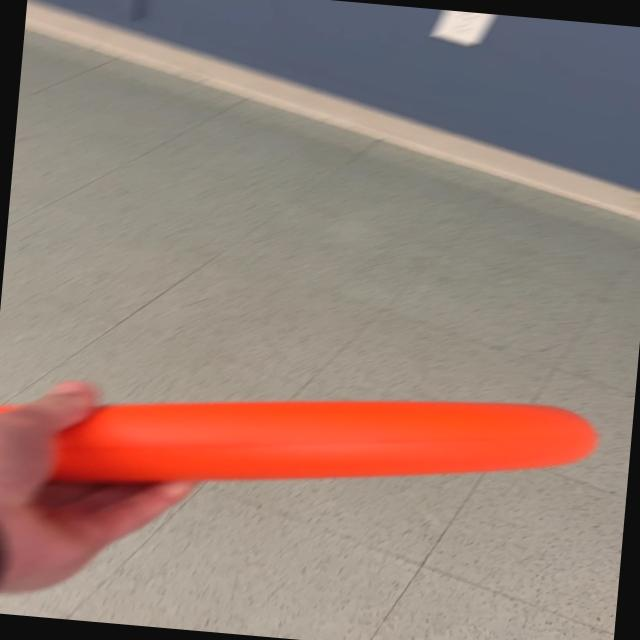note: (0, 355, 603, 529)
